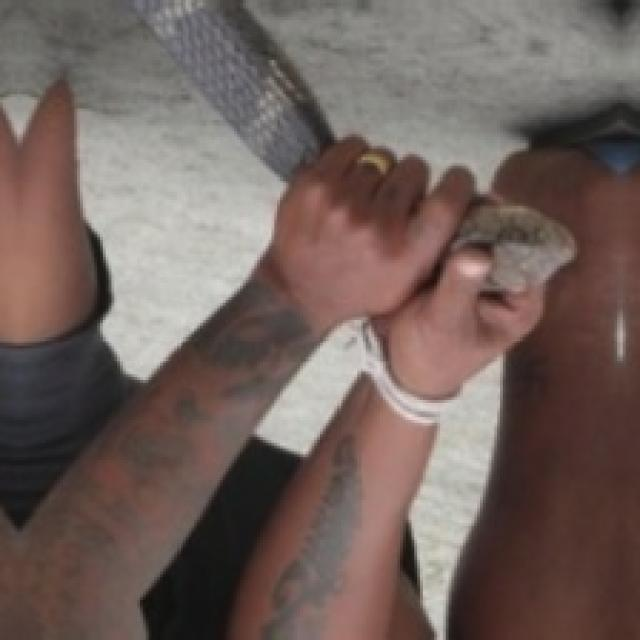king cobra: (131, 0, 331, 177), (452, 205, 575, 291)
